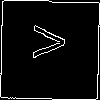V: (24, 25, 65, 59)
